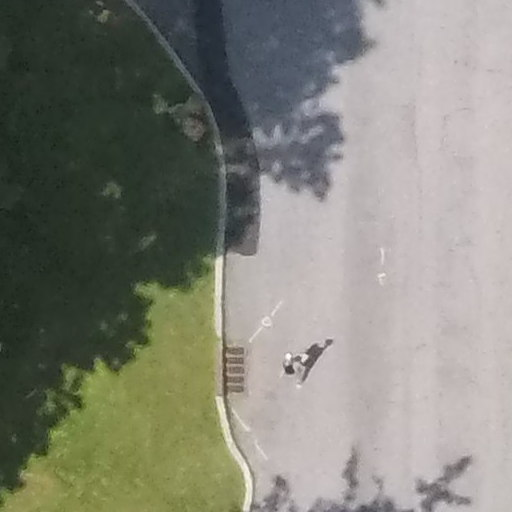gutter: (210, 344, 251, 396)
street: (210, 4, 511, 512)
